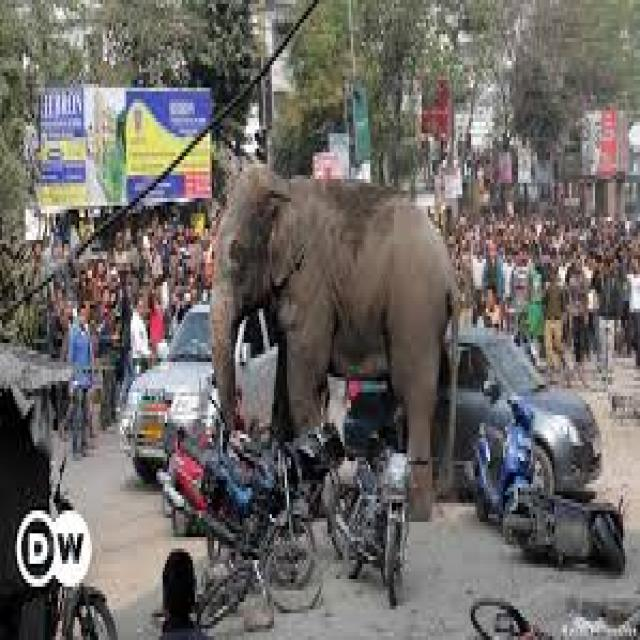Elephant: (206, 153, 459, 523)
